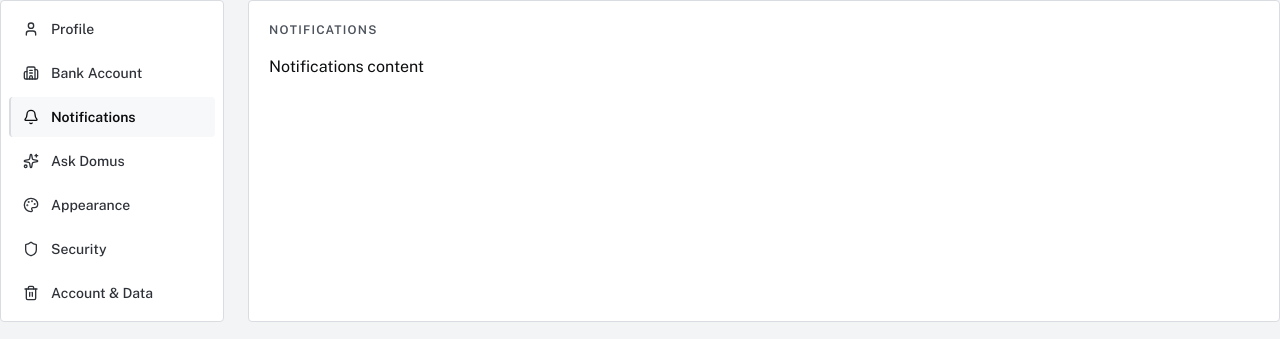
Test case: SettingsLayout initial section › opens an owner's notifications deep link and allows later tab clicks
This screenshot has width=1280, height=339.
Check: the text "Notifications content" is shown, box [269, 57, 424, 76]
What coordinates should you click on to do the following:
click the button titled "Open Profile settings."
I would click on:
 (112, 29)
Its box is [9, 9, 215, 49].
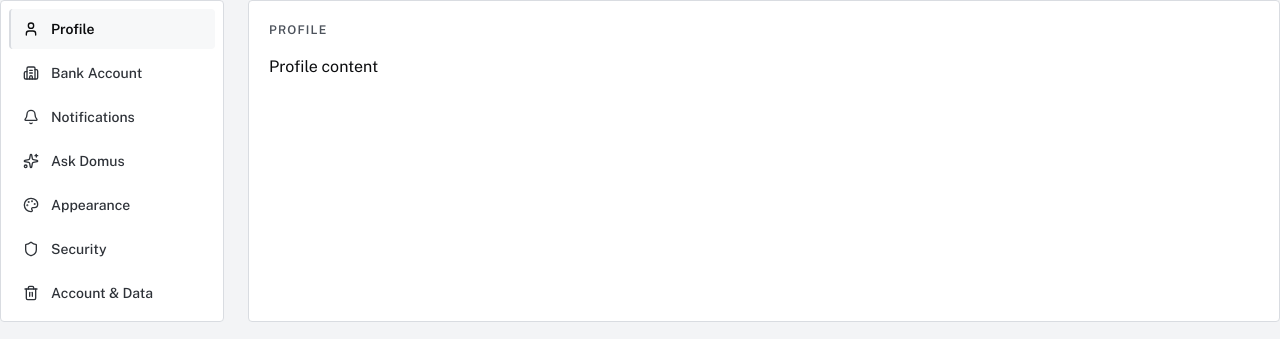
Check: the text "Profile content" is shown, box [269, 57, 378, 76]
